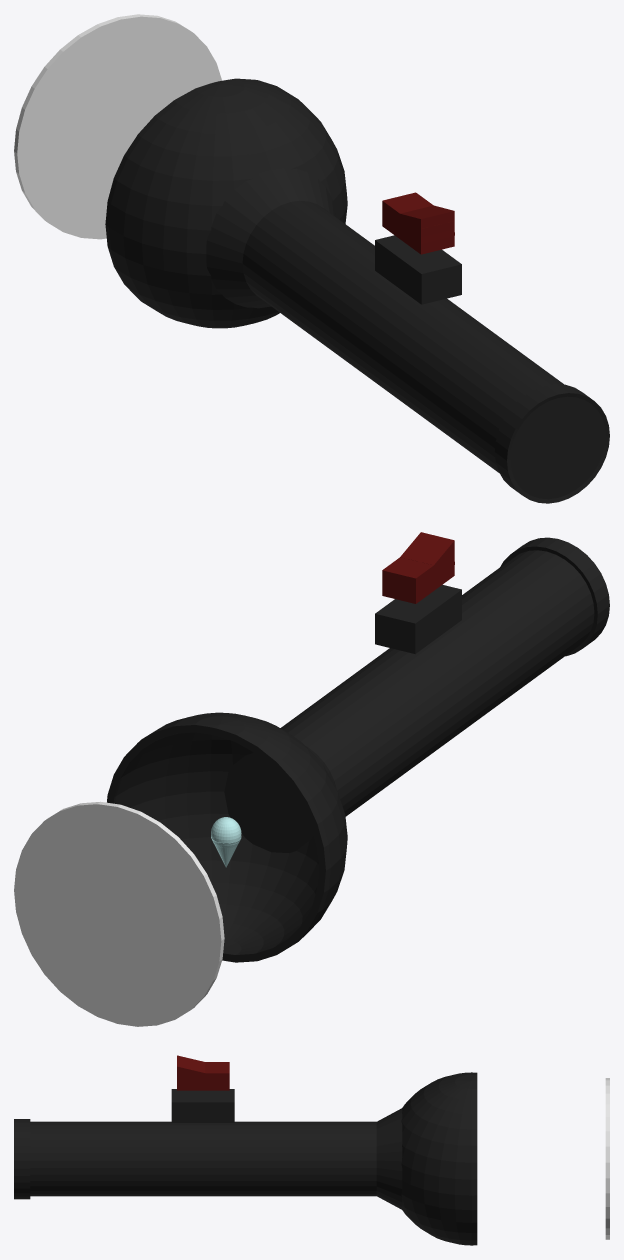
File: Linterna.fbx
The picture shows the model from 3 angles, top to bottom: view 1: azimuth 30°, elevation 25°; view 2: azimuth 150°, elevation 25°; view 3: azimuth 270°, elevation 25°; orthographic projection. The views are drawn at different scales.
Parts seen in each view (by area): view 1: Cilindro, Cilindro.001, Cubo, Cubo.001; view 2: Cilindro, Cilindro.001, Cubo, Cubo.001, Esfera.001; view 3: Cilindro, Cubo, Cubo.001, Cilindro.001.
Part boxes in pixels (x1,y1,x2,y2): Cilindro: [105, 78, 609, 503]; Cilindro.001: [14, 14, 221, 239]; Cubo: [375, 235, 461, 304]; Cubo.001: [382, 192, 454, 254]; Cilindro: [107, 537, 609, 962]; Cilindro.001: [14, 801, 224, 1026]; Cubo: [375, 584, 461, 654]; Cubo.001: [382, 532, 454, 603]; Esfera.001: [211, 817, 241, 867]; Cilindro: [14, 1072, 477, 1245]; Cubo: [171, 1089, 234, 1122]; Cubo.001: [177, 1055, 229, 1090]; Cilindro.001: [605, 1078, 609, 1239].
Size of the model in its own units: 550 by 618 by 1892.
